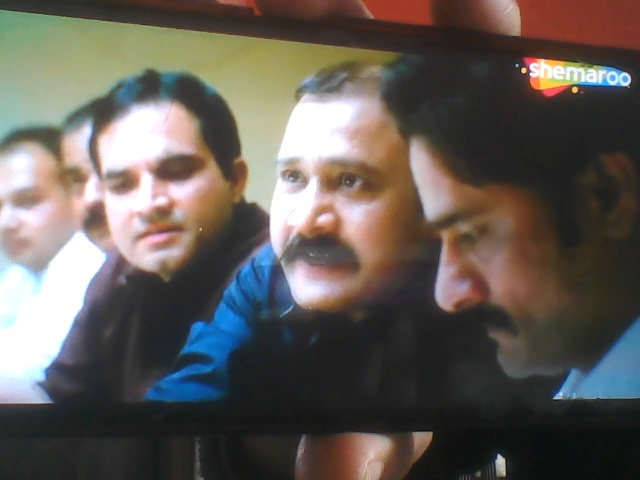fake: (252, 39, 450, 319), (87, 65, 244, 287)
